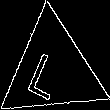L_NE: (30, 40, 74, 100)
